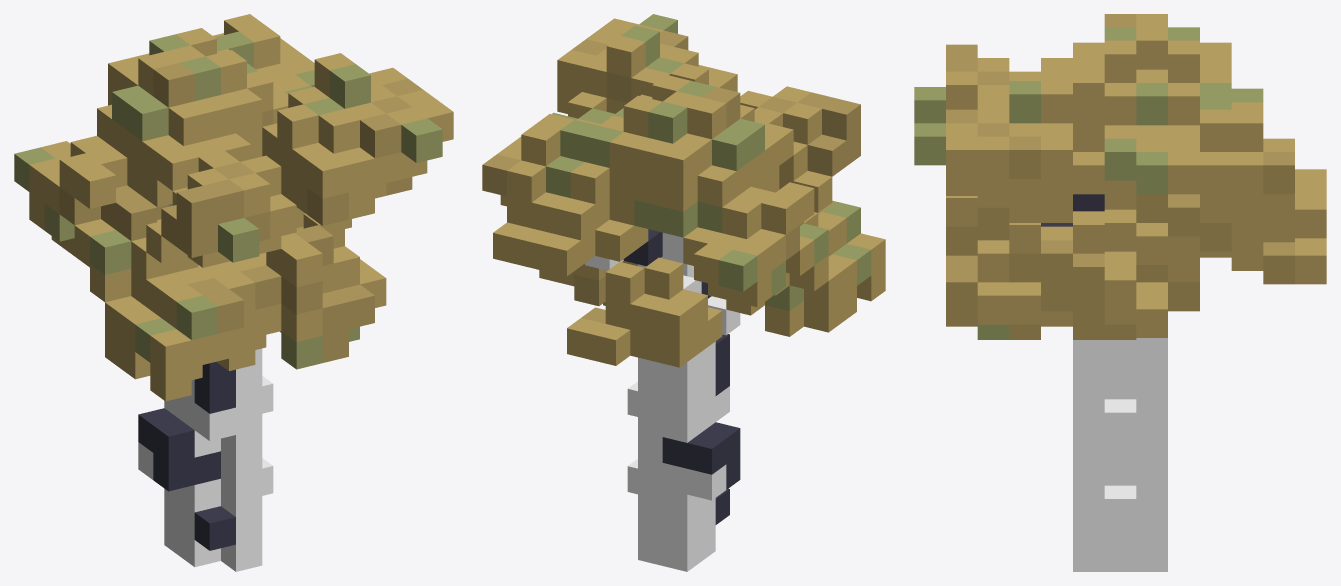
File: tree_birch_lo.obj
3 views of the same model, side by side, from view 1: azimuth 30°, elevation 25°; view 2: azimuth 150°, elevation 25°; view 3: azimuth 270°, elevation 25° (orthographic). The views are drawn at different scales.
Parts seen in each view (by area): view 1: tree_birch_lo; view 2: tree_birch_lo; view 3: tree_birch_lo.
Part boxes in pixels (x1=…): tree_birch_lo: x1=14, y1=14, x2=453, y2=571; tree_birch_lo: x1=482, y1=14, x2=885, y2=571; tree_birch_lo: x1=914, y1=14, x2=1326, y2=571.
Bounding box in the file's own units: 2.2 × 3.6 × 2.6.
Materials: 1 (1 with a texture image).
